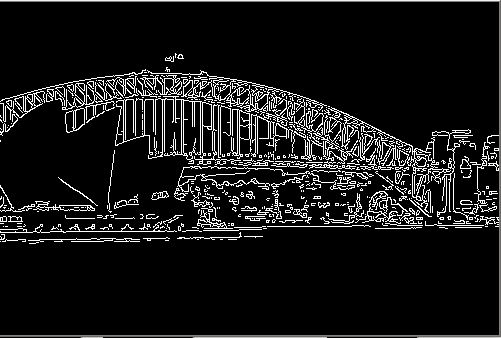opera house: (1, 78, 214, 227)
